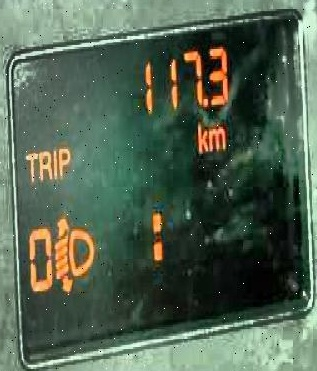-: (201, 91, 206, 109)
0: (25, 222, 51, 297)
1: (168, 53, 178, 118), (143, 53, 153, 115)
3: (208, 42, 229, 106)
7: (181, 47, 200, 109)
X: (148, 204, 162, 271), (56, 142, 70, 177), (37, 146, 50, 180), (208, 124, 224, 151), (25, 146, 36, 182), (195, 118, 206, 153), (51, 142, 56, 180)
